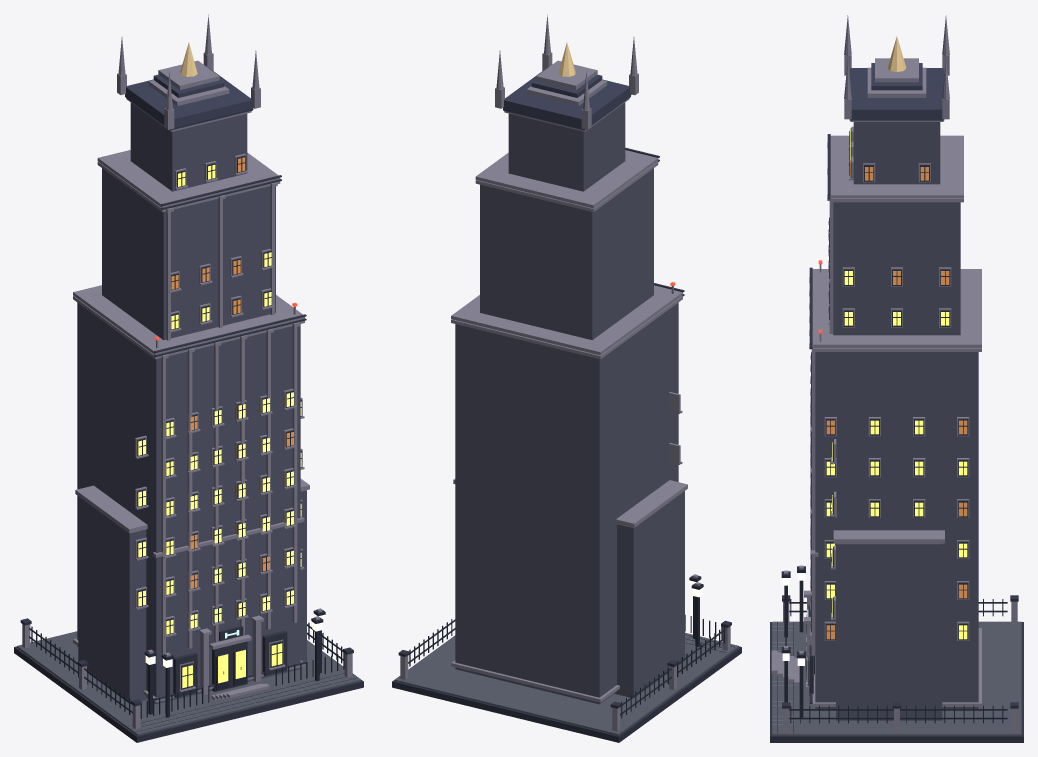
Rendered from account_building_07.glb.
The picture shows the model from 3 angles, left to right: view 1: azimuth 30°, elevation 25°; view 2: azimuth 150°, elevation 25°; view 3: azimuth 270°, elevation 25°; orthographic projection. The views are drawn at different scales.
Parts seen in each view (by area): view 1: SM_Account_Building_07; view 2: SM_Account_Building_07; view 3: SM_Account_Building_07.
Boxes of the visible parts, x1,y1,x2,y2 form: SM_Account_Building_07: (14, 14, 363, 742); SM_Account_Building_07: (392, 14, 741, 742); SM_Account_Building_07: (770, 15, 1023, 742).
Bounding box in the file's own units: 12.6 × 33.32 × 11.8.
